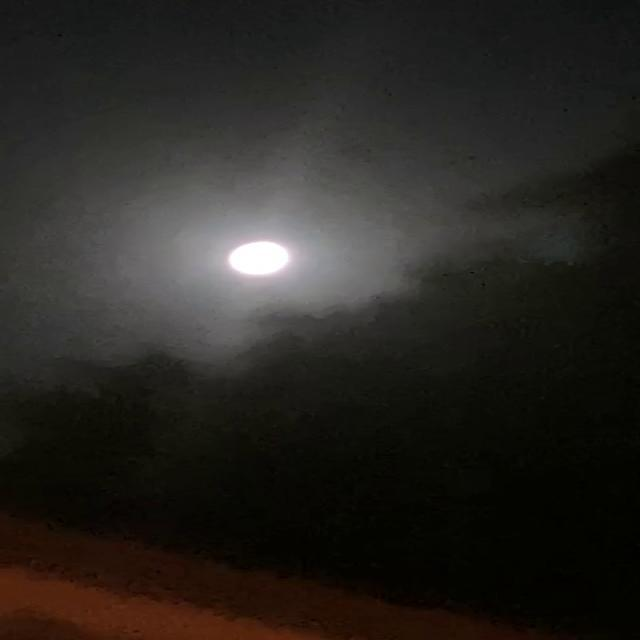moon: (206, 248, 290, 292)
